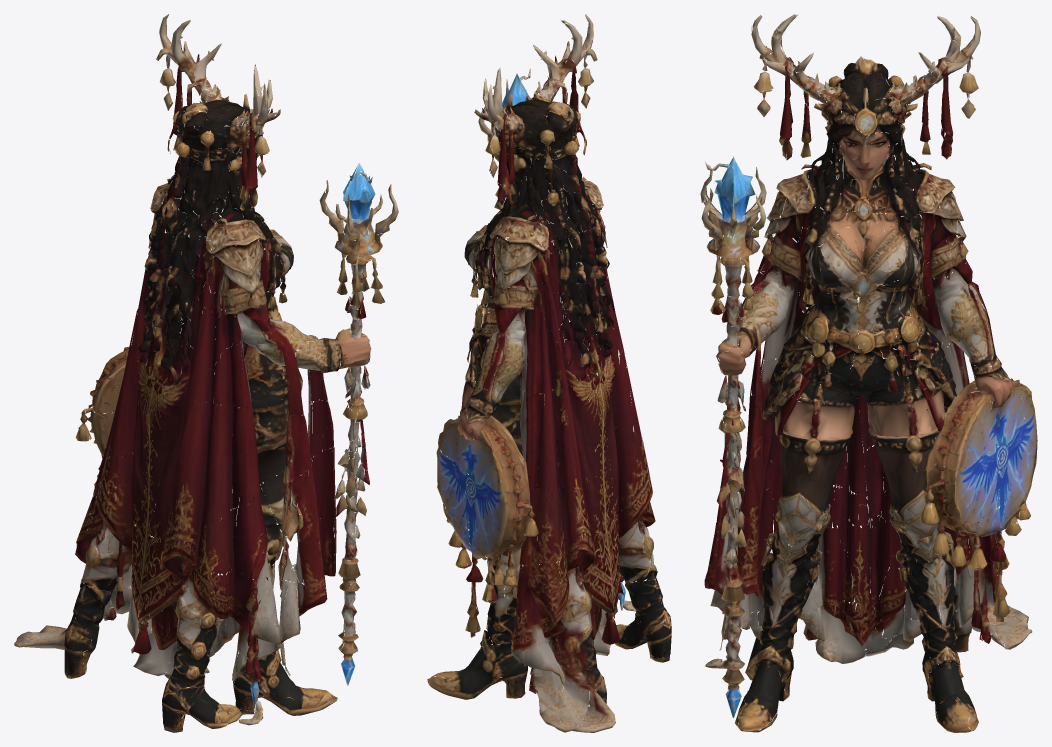
File: drumcaller_T10-tripo.glb
The picture shows the model from 3 angles, left to right: view 1: azimuth 30°, elevation 25°; view 2: azimuth 150°, elevation 25°; view 3: azimuth 270°, elevation 25°; orthographic projection. The views are drawn at different scales.
Visible parts, largest first — view 1: tripo_node_bba6b263-47eb-43e2-84c1-4f17863f13ed; view 2: tripo_node_bba6b263-47eb-43e2-84c1-4f17863f13ed; view 3: tripo_node_bba6b263-47eb-43e2-84c1-4f17863f13ed.
Part boxes in pixels (x1,y1,x2,y2): tripo_node_bba6b263-47eb-43e2-84c1-4f17863f13ed: [14, 14, 398, 732]; tripo_node_bba6b263-47eb-43e2-84c1-4f17863f13ed: [427, 14, 671, 732]; tripo_node_bba6b263-47eb-43e2-84c1-4f17863f13ed: [700, 14, 1037, 732].
Bounding box in the file's own units: 0.406 × 0.9991 × 0.4392.
Materials: 1 (1 with a texture image).
